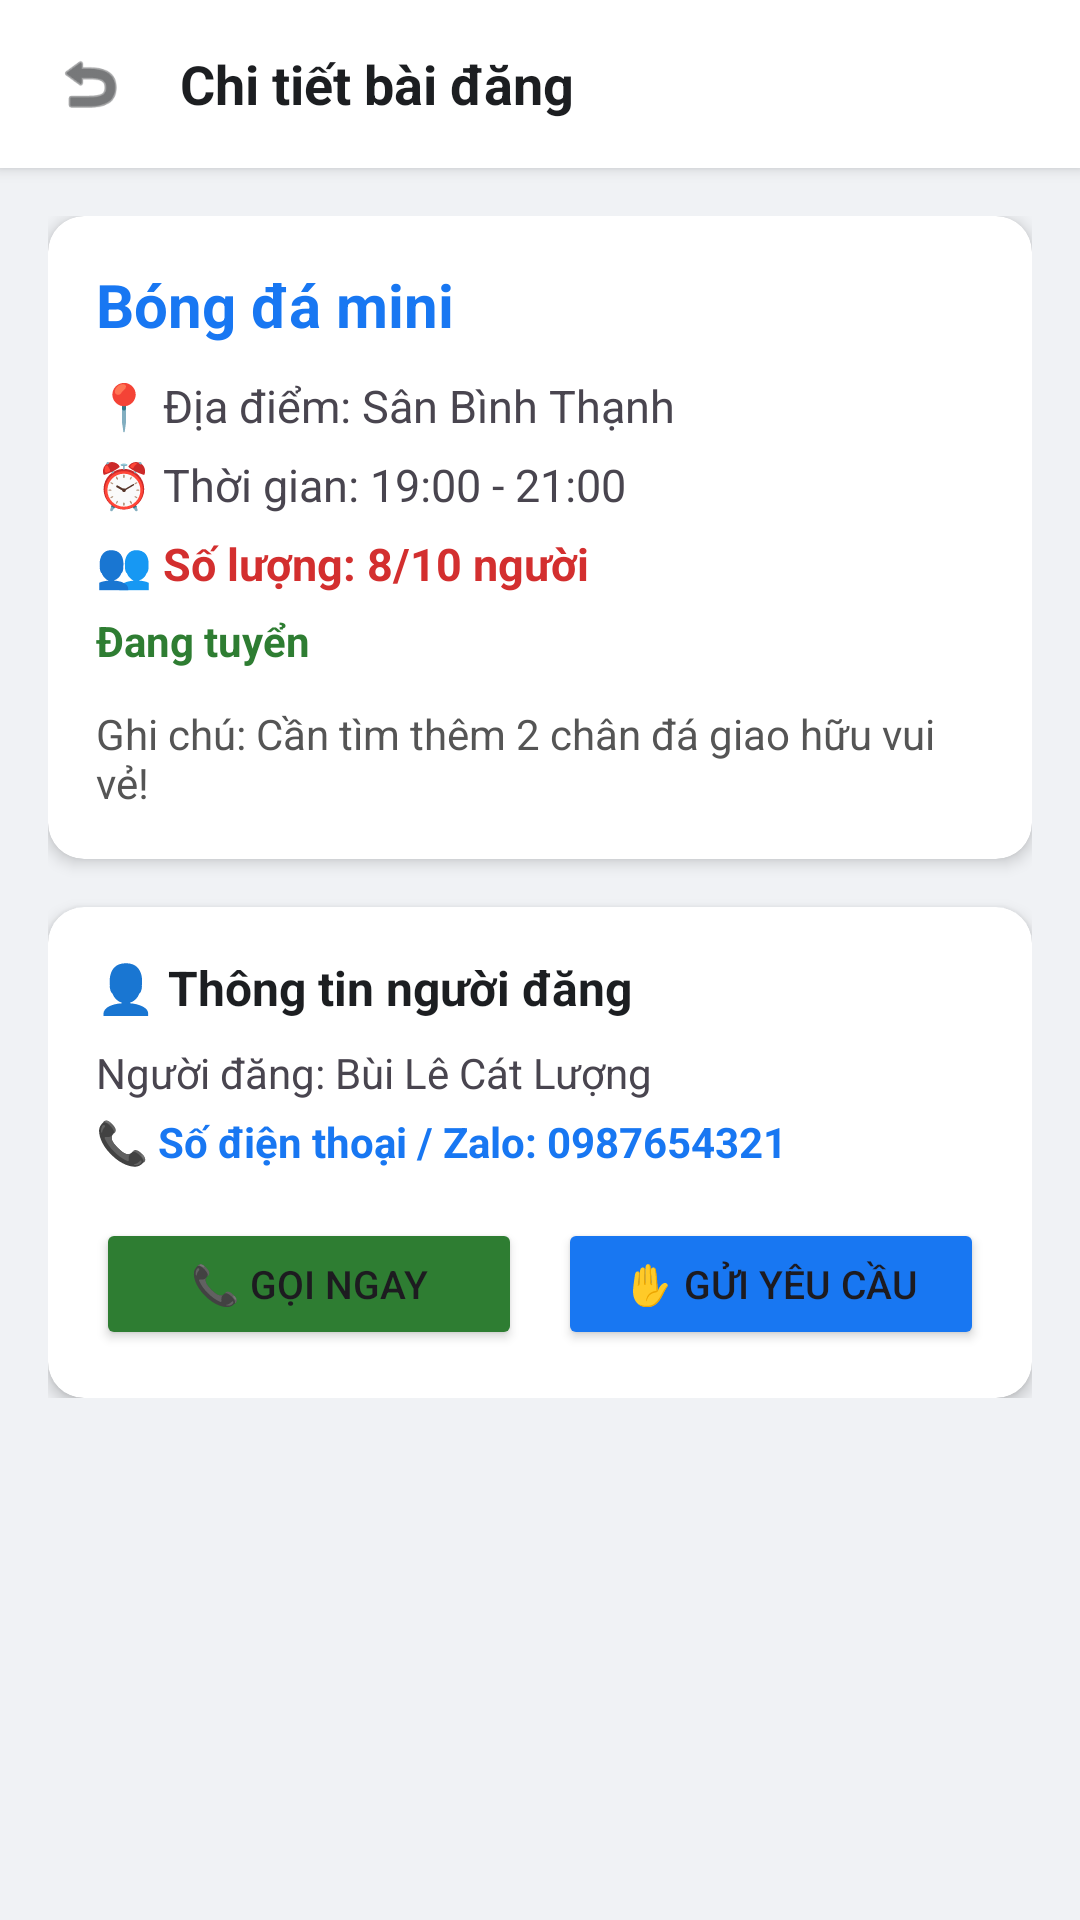

Point at icon controls on the screen. Image size 1080px×1920px, points as point (x, y).
revert: point (91, 84)
